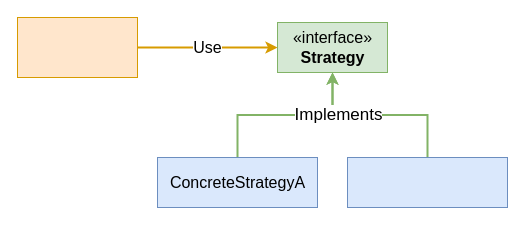
Some shapes in this 525 by 225 pixel diagram are drawn without their labels. Each missing label, with the centre of its shape:
"ConcreteStrategyB" belongs at (427,182).
"Context" belongs at (77,47).
